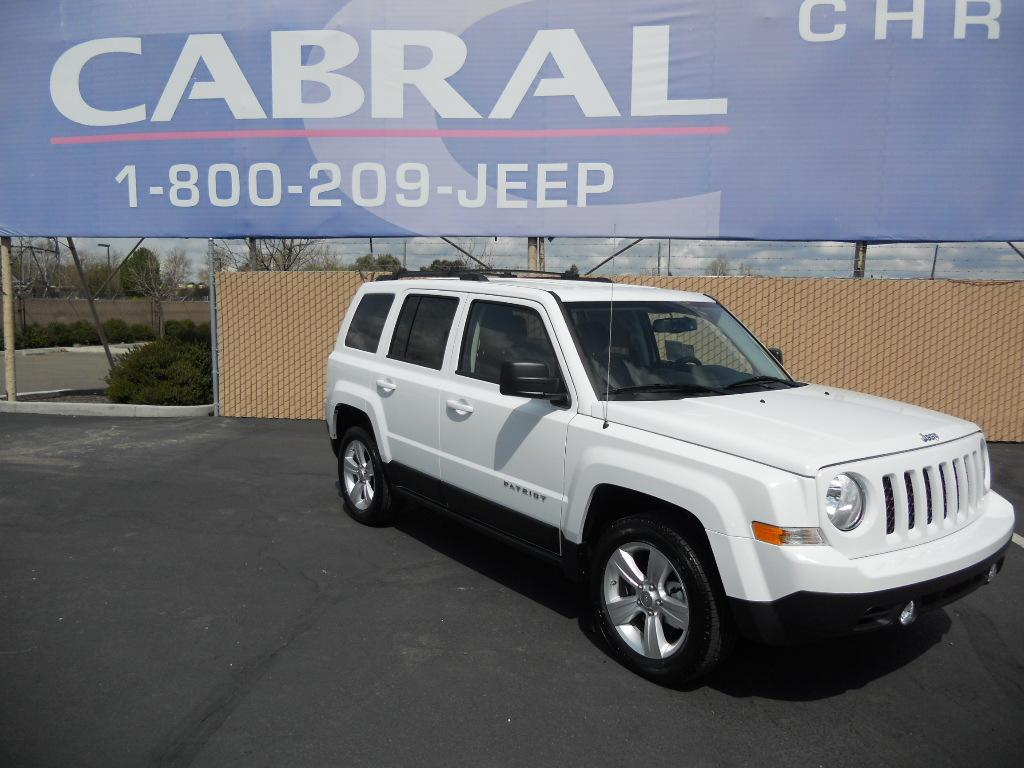jeep: (905, 418, 955, 451)
